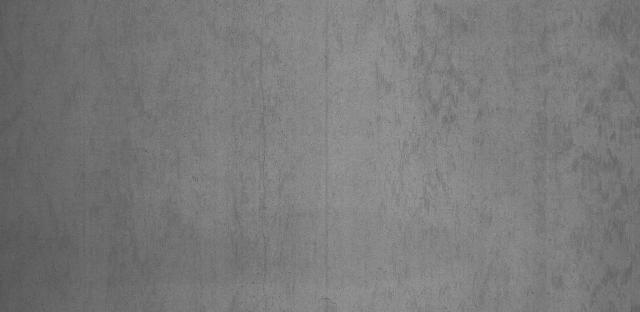silk_spot: (352, 0, 632, 304), (111, 3, 332, 301)
